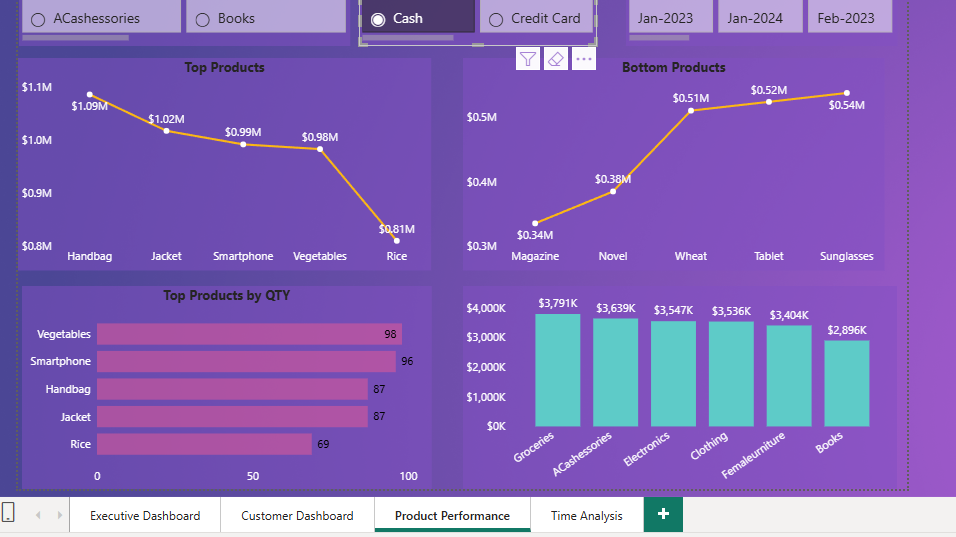

Layout of this report page (visuals, bound fields, positions):
{"tool":"powerbi","page":{"name":"Product Performance","canvas":[1280,720],"ordinal":2},"visuals":[{"type":"lineChart","title":"Top Products","fields":{"Y":["_All Measures.Total Sales"],"Category":["Sales.product_name"]},"box":[0,99.1,594.7,305.9],"z":3000},{"type":"columnChart","title":"Top 5 Customers","fields":{"Y":["_All Measures.Total Sales"],"Category":["Sales.product_category"]},"box":[640.9,427.2,625.5,292.2],"z":4000},{"type":"clusteredBarChart","title":"Top  Products by QTY","fields":{"Category":["Sales.product_name"],"Y":["_All Measures.Total Quantity"]},"box":[5.1,427.2,589.6,293.9],"z":6000},{"type":"lineChart","title":"Bottom Products","fields":{"Y":["_All Measures.Total Sales"],"Category":["Sales.product_name"]},"box":[640.9,99.1,606.7,305.9],"z":6001},{"type":"advancedSlicerVisual","fields":{"Values":["Sales.payment_mode"]},"box":[490.5,10.3,343.5,71.8],"z":6002},{"type":"advancedSlicerVisual","fields":{"Values":["Date.year month"]},"box":[875,10.3,391.3,71.8],"z":6003},{"type":"advancedSlicerVisual","fields":{"Values":["Sales.product_category"]},"box":[1.7,10.3,476.8,71.8],"z":6004}]}

Visuals, with their boxes on the page's 1280x720 design canvas (x1, y1, x2, y2). These are canvas units, not pixel positions in the 956x537 screenshot, which may show the page scaled, cropped or inside an application window:
"Top Products" lineChart: bbox(0, 99, 595, 405)
"Top 5 Customers" columnChart: bbox(641, 427, 1266, 719)
"Top  Products by QTY" clusteredBarChart: bbox(5, 427, 595, 721)
"Bottom Products" lineChart: bbox(641, 99, 1248, 405)
advancedSlicerVisual - Sales.payment_mode: bbox(490, 10, 834, 82)
advancedSlicerVisual - Date.year month: bbox(875, 10, 1266, 82)
advancedSlicerVisual - Sales.product_category: bbox(2, 10, 478, 82)
